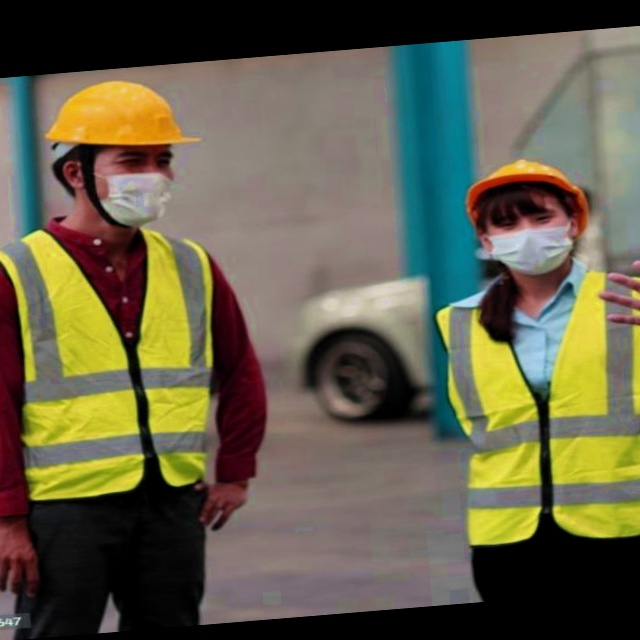Con_Chaleco: (0, 212, 239, 512), (443, 265, 640, 545)
